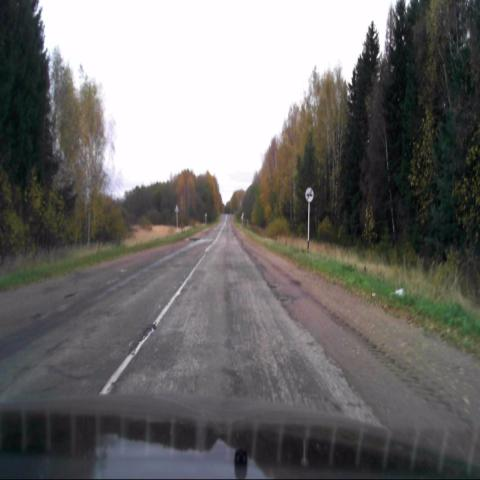3_21: (304, 187, 314, 202)
